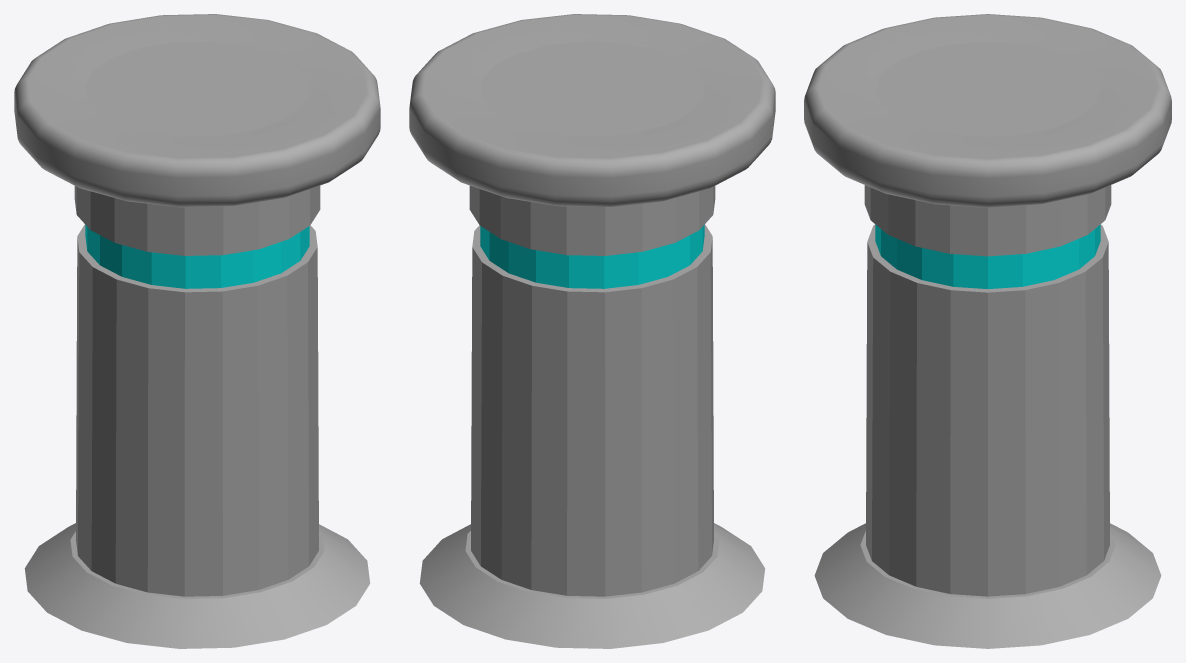
File: HumanSeat.fbx
3 views of the same model, side by side, from view 1: azimuth 30°, elevation 25°; view 2: azimuth 150°, elevation 25°; view 3: azimuth 270°, elevation 25° (orthographic).
Parts seen in each view (by area): view 1: pCylinder92; view 2: pCylinder92; view 3: pCylinder92.
Part boxes in pixels (bbox=[...]): pCylinder92: bbox=[14, 14, 380, 648]; pCylinder92: bbox=[409, 14, 775, 648]; pCylinder92: bbox=[804, 14, 1171, 648].
Size of the model in its own units: 0.4468 by 0.6546 by 0.4468.
